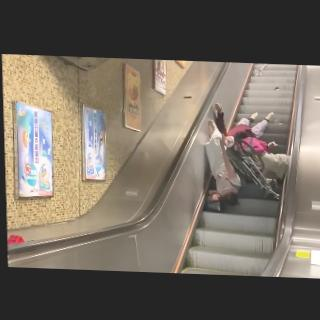anomaly: (214, 99, 292, 180), (202, 117, 243, 207)
